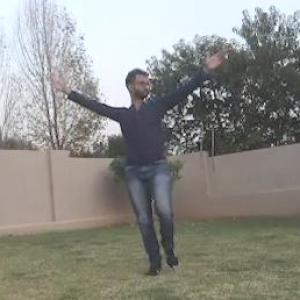takeoff: (55, 52, 226, 268)
